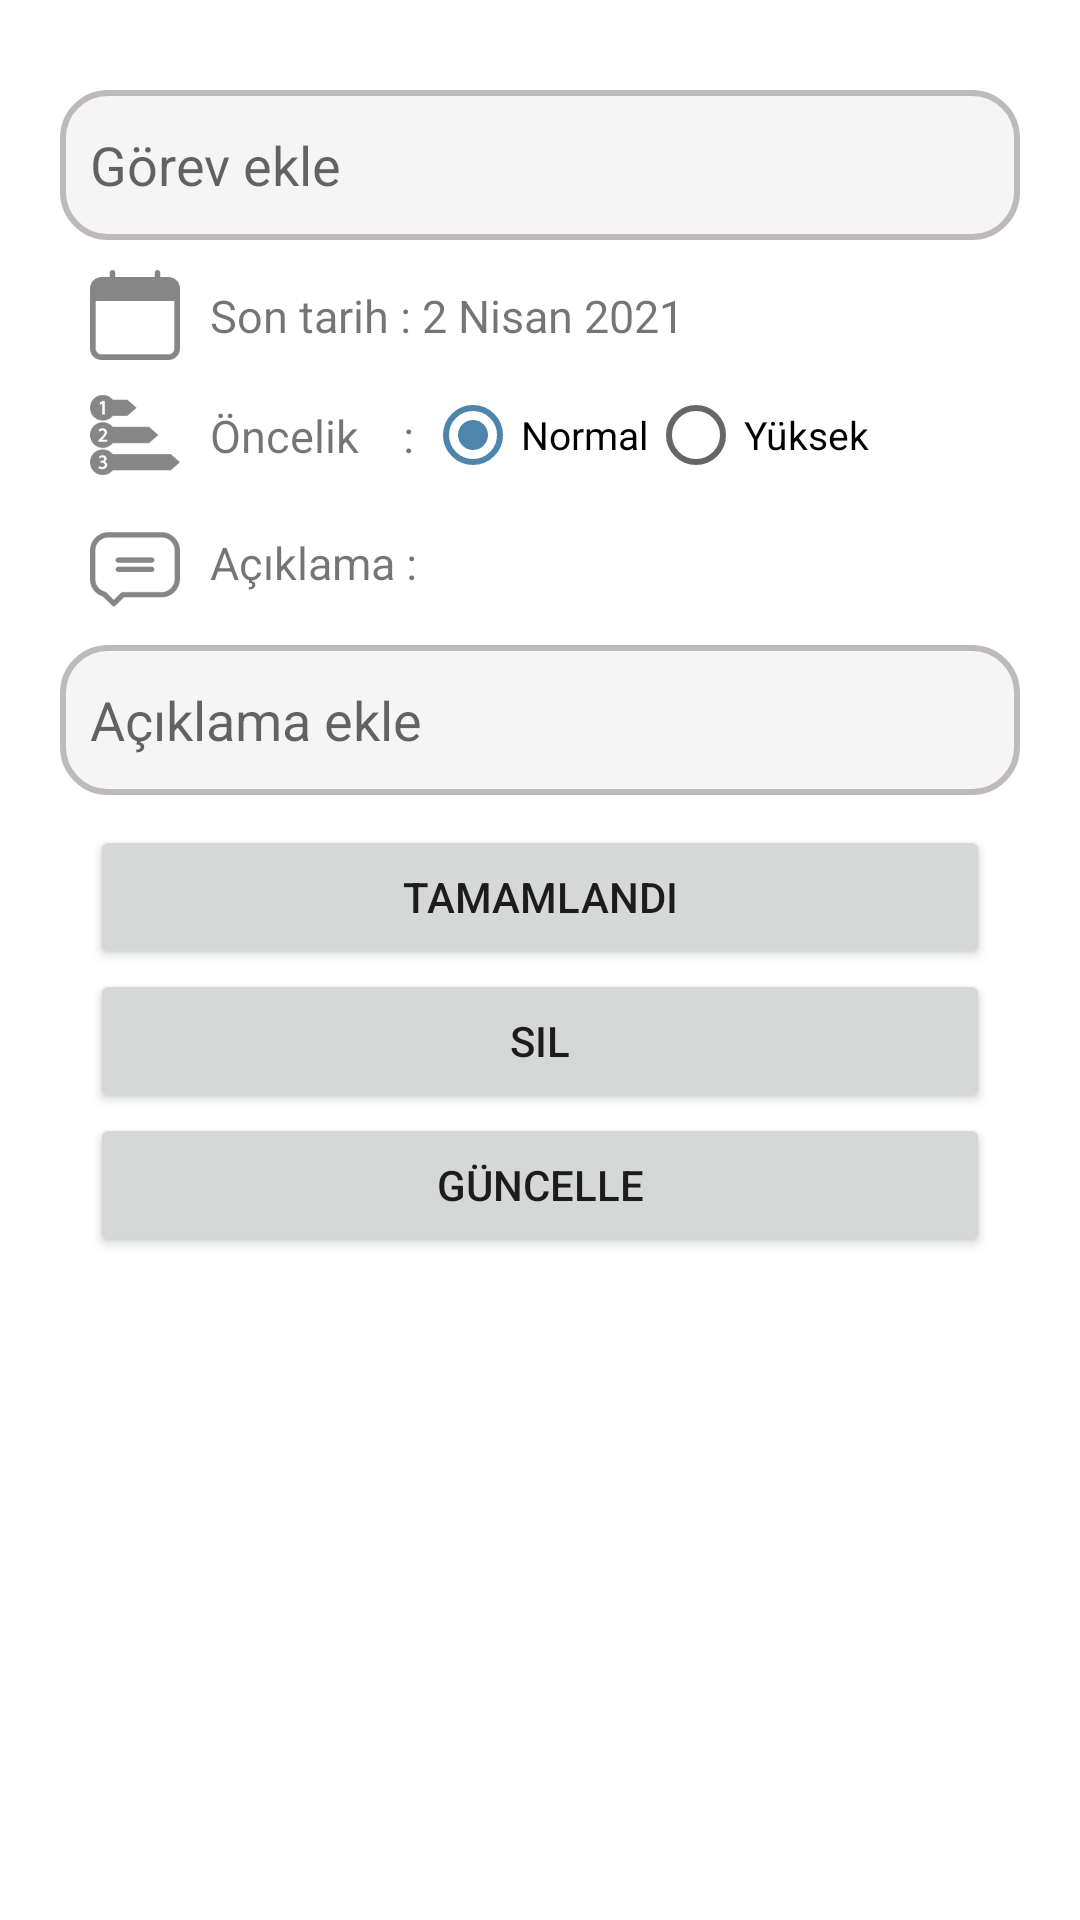

Icons on this 1080×1920 Android screen, each with its box as (x1, y1, x2, y2):
calendar: (90, 270, 180, 360)
message: (90, 532, 180, 607)
prio: (90, 395, 180, 475)
